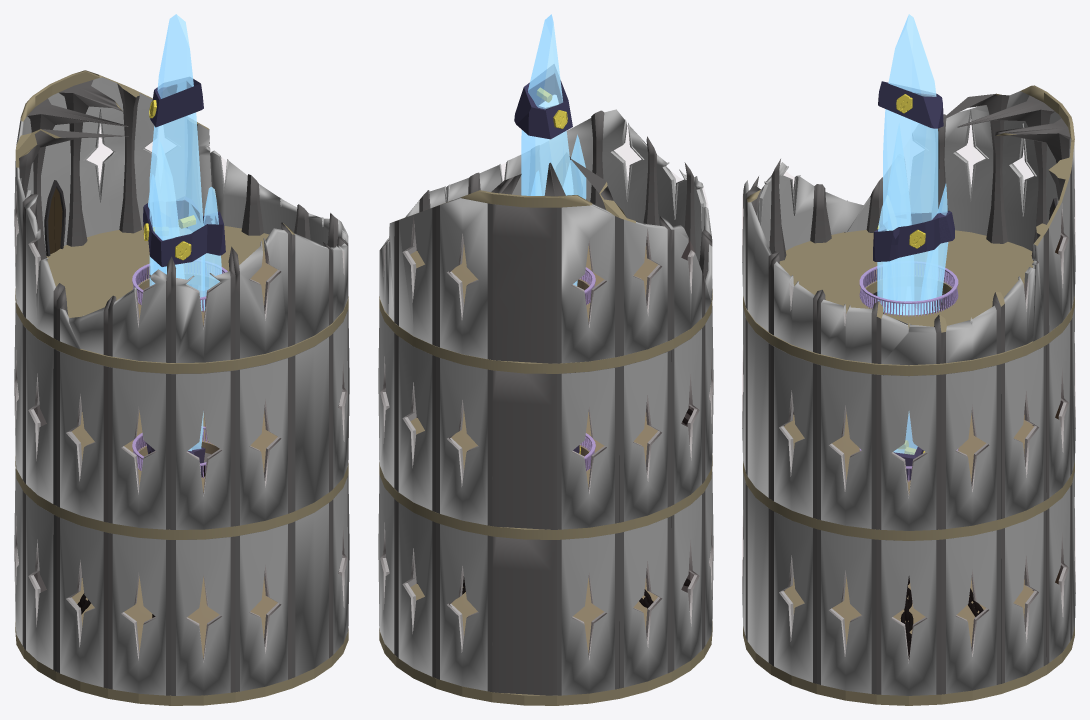
The model's file is Tower_Med_Top.fbx.
3 renders of one model, left to right at view 1: azimuth 30°, elevation 25°; view 2: azimuth 150°, elevation 25°; view 3: azimuth 270°, elevation 25°, orthographic.
Visible parts, largest first — view 1: walls.012, walls.003, walls.002, floorwithhole.010, crystal.004, floor.003, crystalloops.004, floorwithhole.012, door.014, rail.002; view 2: walls.012, walls.003, walls.002, crystal.004, floor.003, floorwithhole.010, floorwithhole.012, crystalloops.004; view 3: walls.003, walls.002, walls.012, floorwithhole.010, crystal.004, floor.003, floorwithhole.012, crystalloops.004, rail.002.
Boxes of the visible parts, x1=… form: walls.012: x1=14, y1=70, x2=348, y2=362; walls.003: x1=14, y1=285, x2=349, y2=529; walls.002: x1=14, y1=452, x2=349, y2=695; floorwithhole.010: x1=15, y1=226, x2=348, y2=373; crystal.004: x1=148, y1=14, x2=221, y2=451; floor.003: x1=15, y1=576, x2=348, y2=705; crystalloops.004: x1=143, y1=77, x2=225, y2=477; floorwithhole.012: x1=15, y1=410, x2=348, y2=539; door.014: x1=44, y1=180, x2=65, y2=256; rail.002: x1=132, y1=260, x2=227, y2=312; walls.012: x1=379, y1=109, x2=712, y2=363; walls.003: x1=378, y1=305, x2=713, y2=529; walls.002: x1=378, y1=471, x2=713, y2=695; crystal.004: x1=521, y1=14, x2=586, y2=285; floor.003: x1=379, y1=578, x2=712, y2=705; floorwithhole.010: x1=379, y1=244, x2=712, y2=373; floorwithhole.012: x1=379, y1=410, x2=712, y2=539; crystalloops.004: x1=514, y1=64, x2=579, y2=453; walls.003: x1=742, y1=287, x2=1075, y2=530; walls.002: x1=742, y1=452, x2=1075, y2=695; walls.012: x1=742, y1=85, x2=1075, y2=365; floorwithhole.010: x1=743, y1=230, x2=1074, y2=375; crystal.004: x1=877, y1=14, x2=948, y2=454; floor.003: x1=743, y1=577, x2=1074, y2=705; floorwithhole.012: x1=743, y1=412, x2=1074, y2=540; crystalloops.004: x1=873, y1=81, x2=954, y2=480; rail.002: x1=859, y1=262, x2=958, y2=316.
Size of the model in its own units: 9049 by 18524 by 9049.
